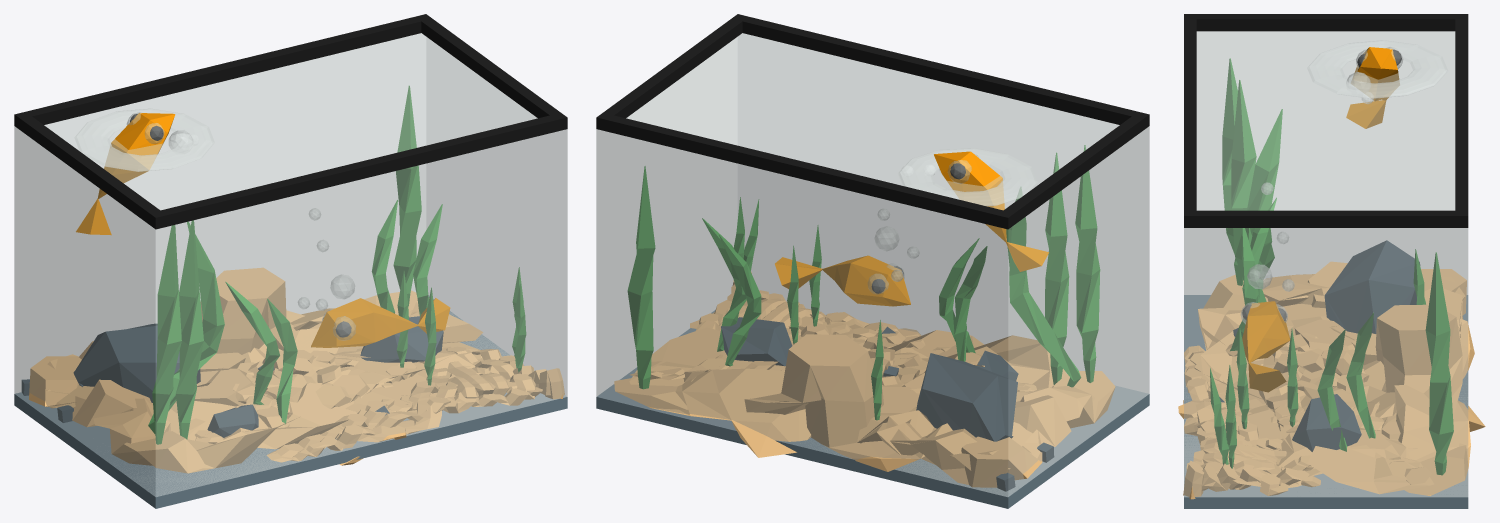
The model's file is Fish Tank.glb.
The picture shows the model from 3 angles, left to right: view 1: azimuth 30°, elevation 25°; view 2: azimuth 150°, elevation 25°; view 3: azimuth 270°, elevation 25°; orthographic projection.
Parts seen in each view (by area): view 1: Node; view 2: Node; view 3: Node.
Boxes of the visible parts, x1,y1,x2,y2 form: Node: (14,14,567,508); Node: (596,14,1149,508); Node: (1178,14,1485,508).
Bounding box in the file's own units: 0.7466 × 0.5311 × 0.4756.
